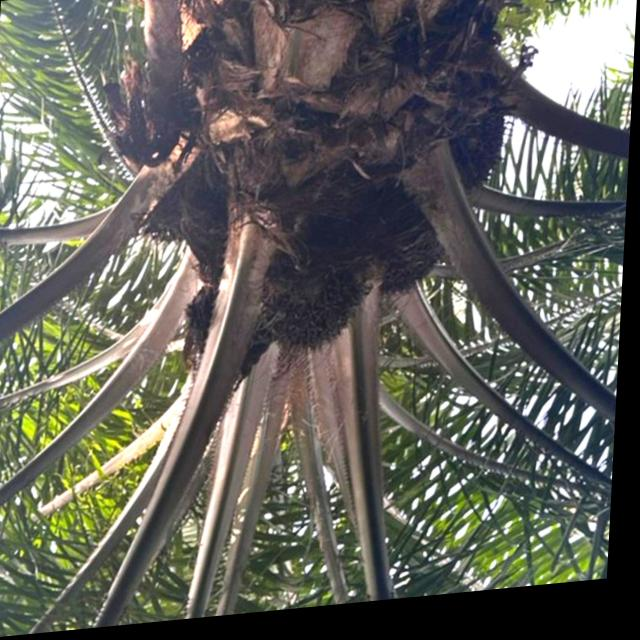unripe: (249, 238, 376, 371), (360, 196, 459, 311)
